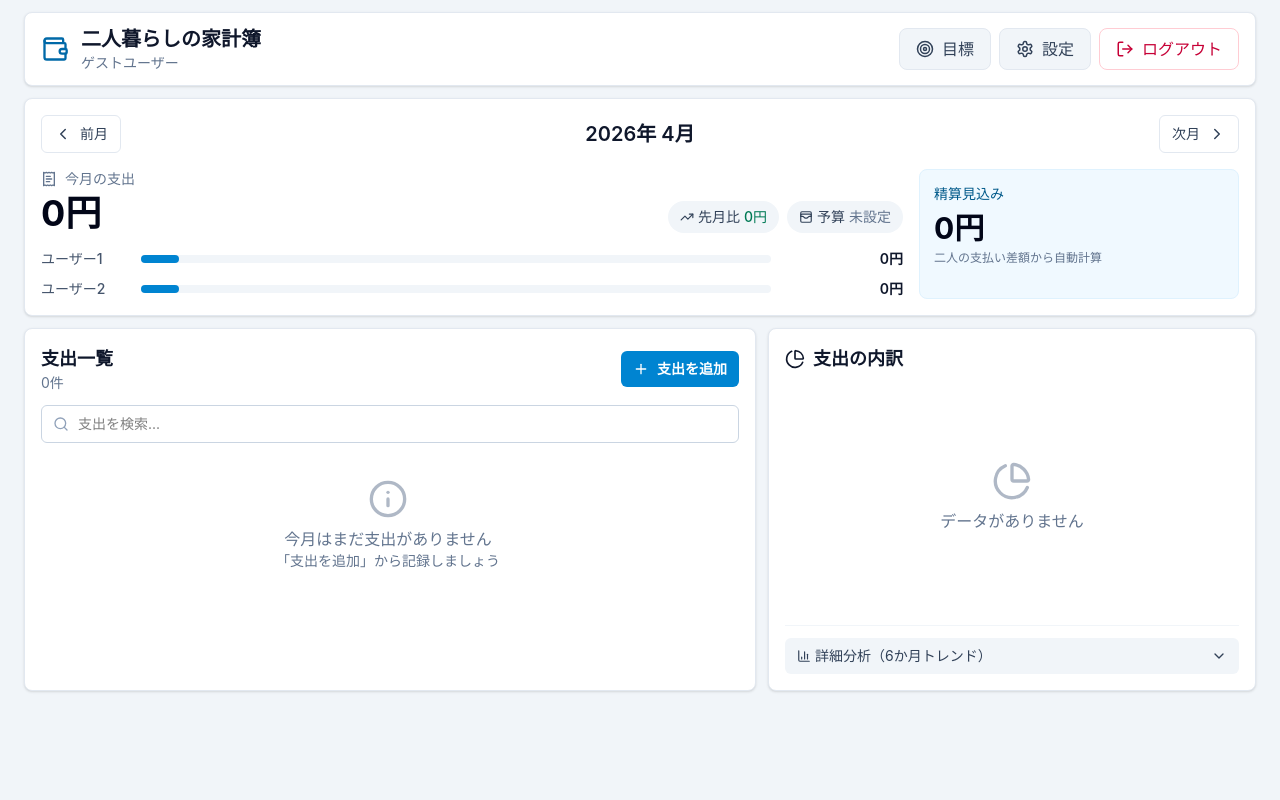
Scenario: Home › 予算設定モーダルで前月からコピーボタンが表示される
The width and height of the screenshot is (1280, 800).
Click the button "目標" at (945, 49), box [899,28,991,70]
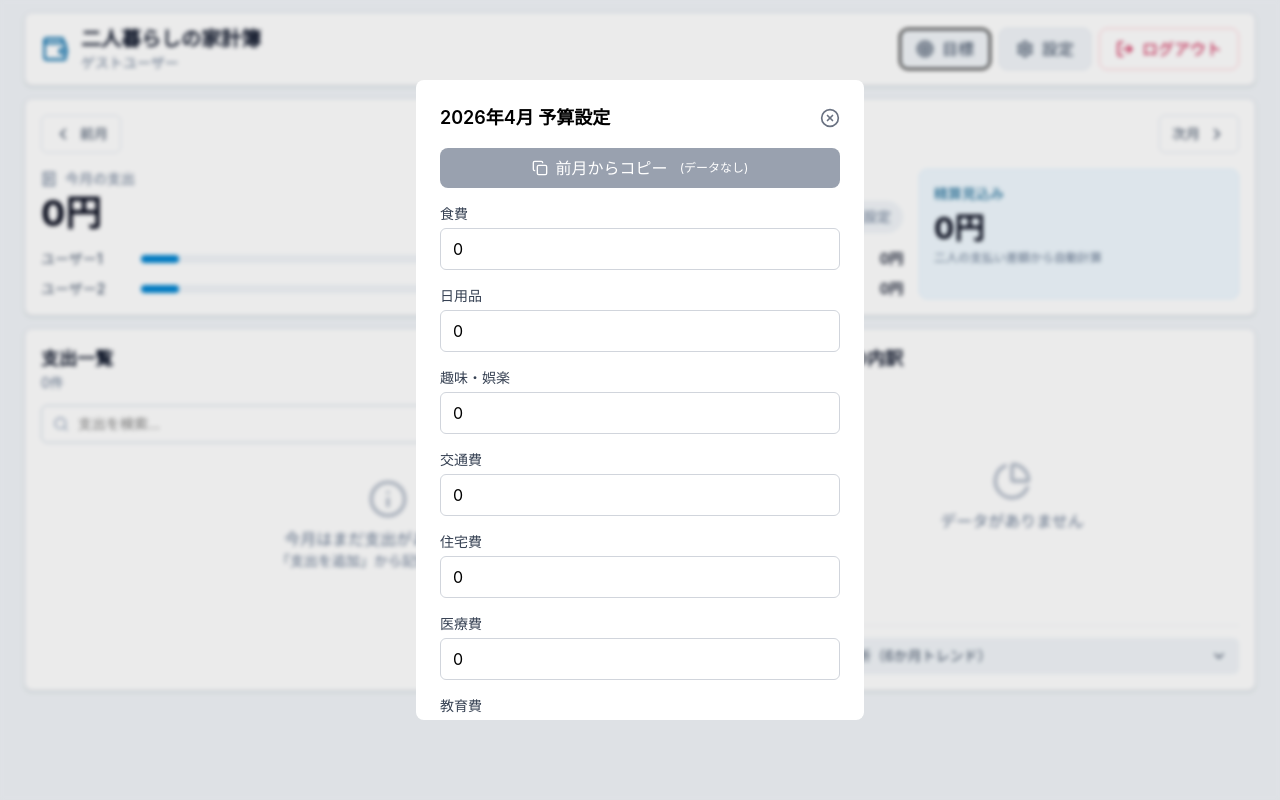
expect the button "前月からコピー (データなし)" is shown: met, box [440,148,840,188]
